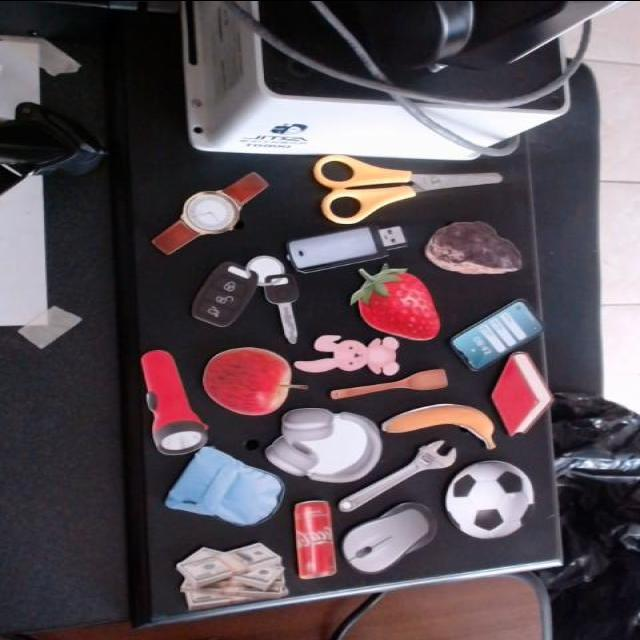Other Objects: (160, 443, 297, 542), (313, 154, 504, 224), (188, 247, 321, 342), (259, 400, 393, 490), (431, 451, 548, 546), (152, 171, 271, 255), (329, 497, 450, 579), (339, 440, 459, 512), (176, 542, 291, 611), (140, 347, 212, 456), (203, 346, 309, 416), (283, 219, 411, 276), (449, 298, 545, 371), (381, 403, 499, 450), (425, 220, 524, 275), (295, 334, 401, 376), (331, 368, 449, 400), (293, 500, 339, 580)
